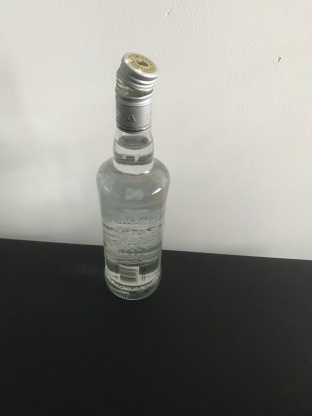nakretka: (113, 50, 159, 133)
